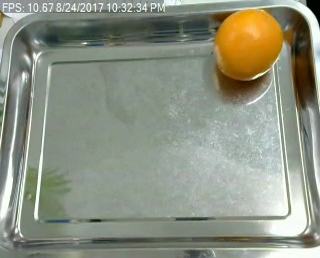Orange: (212, 9, 282, 80)
